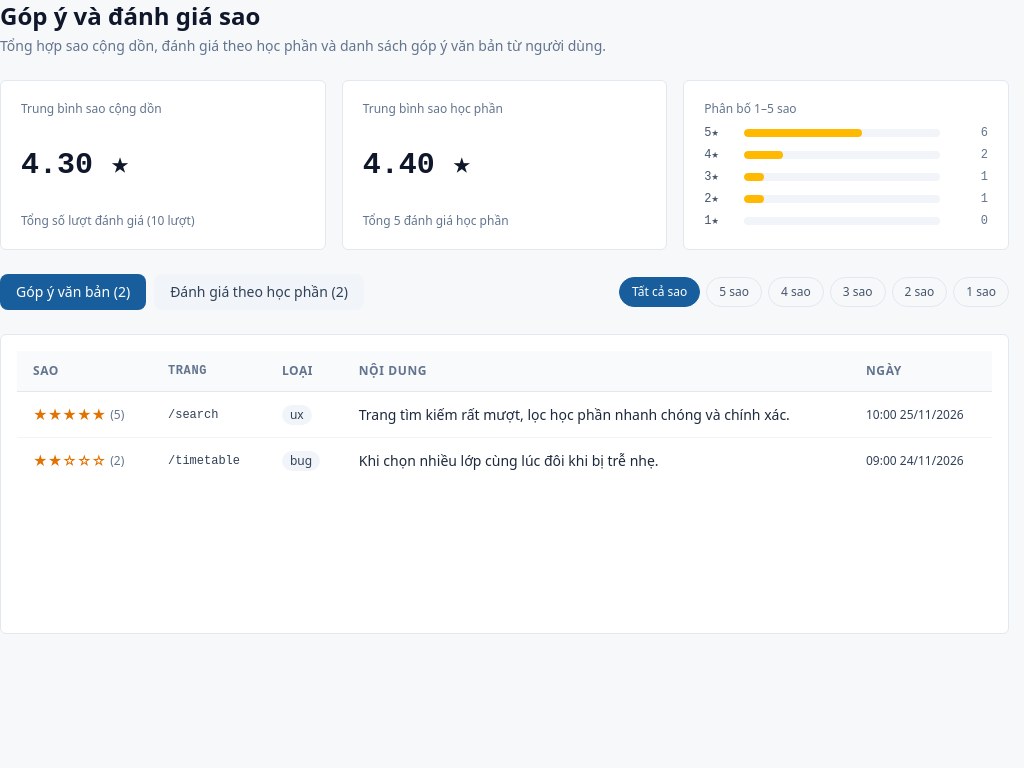
Test: Admin Feedback & Star Ratings Page (/admin/feedback) › bấm vào dòng góp ý mở modal chi tiết hiển thị đầy đủ nội dung
What coordinates should you click on to do the following:
click the button "Trang tìm kiếm rất mượt"
I would click on:
 (596, 414)
Its box is [359,404,834,424].
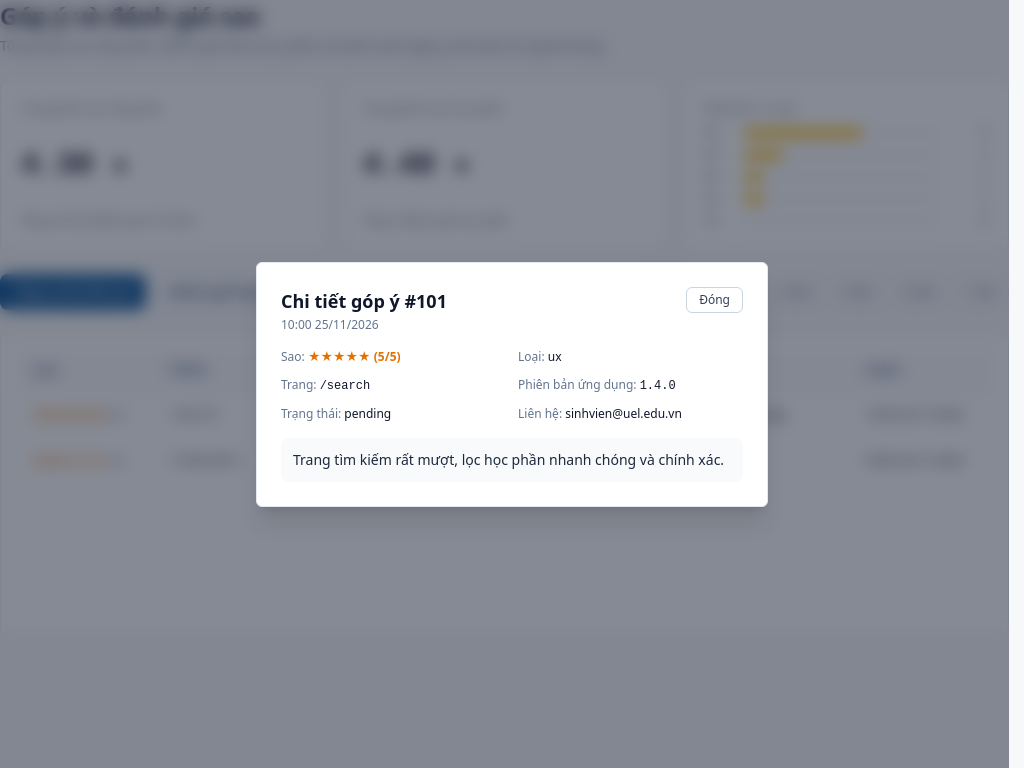
Check: the dialog is shown
Check: the text "sinhvien@uel.edu.vn" is shown, box [565,404,682,422]
What coordinates should you click on to do the following:
click the button "Đóng"
I would click on:
 (715, 300)
Its box is [686,286,743,312].
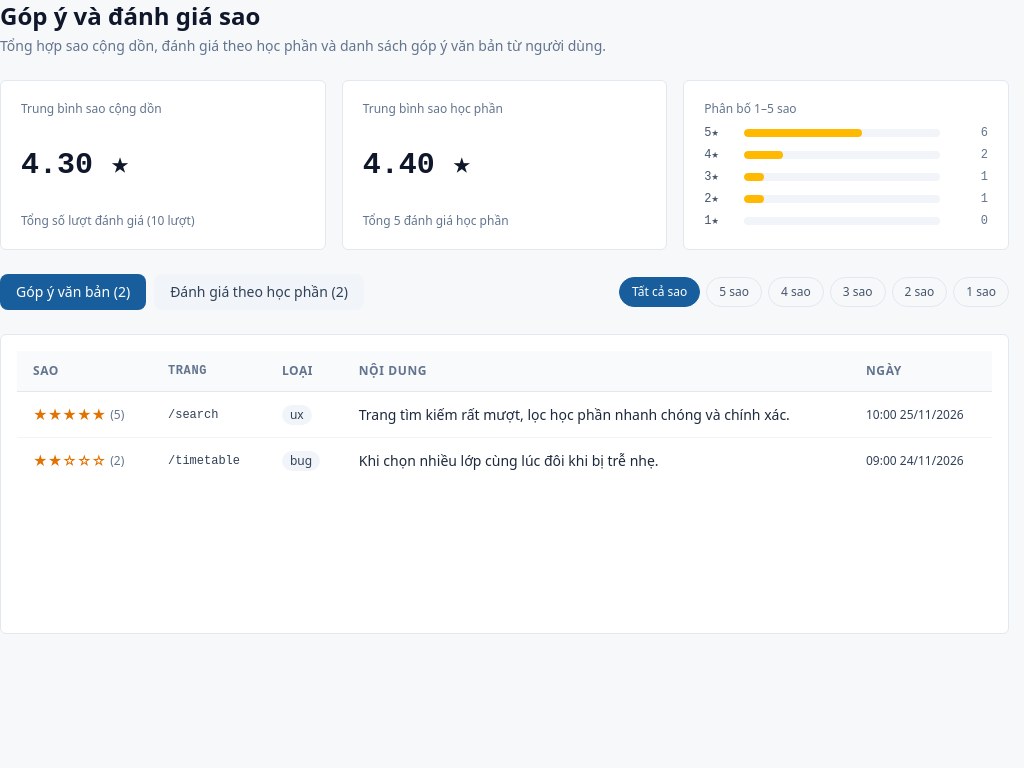
Check: the dialog is gone
